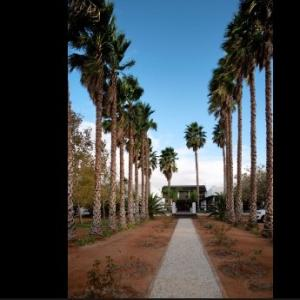palm tree: (184, 121, 206, 211), (158, 146, 178, 208)
